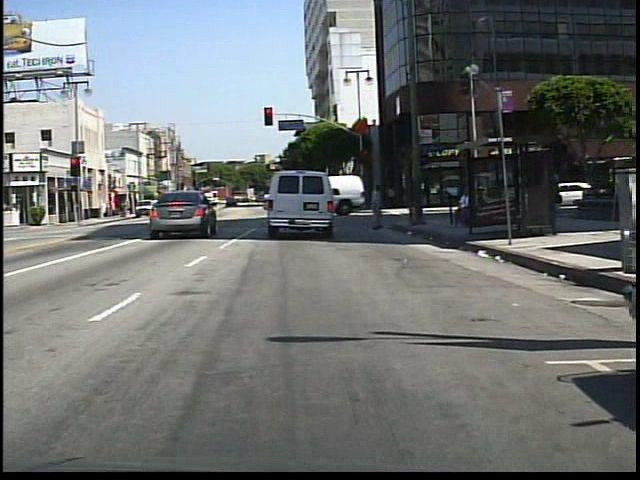person: (367, 181, 392, 235), (452, 188, 473, 233), (158, 192, 173, 218)
